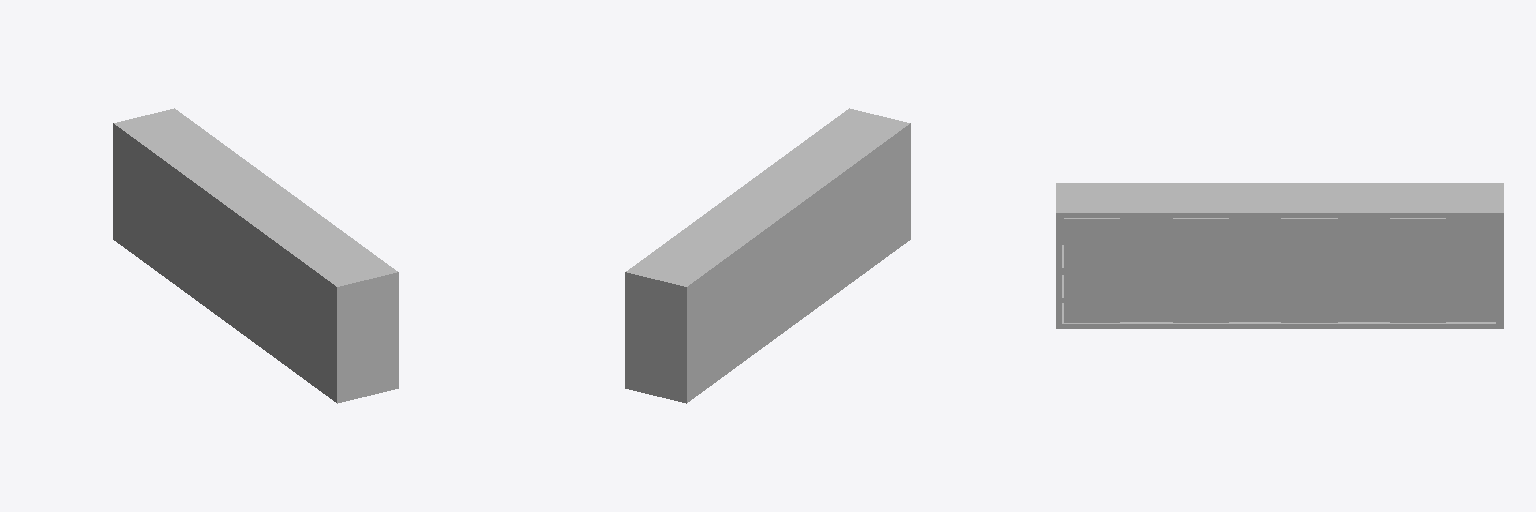
The model's file is fridge.obj.
3 views of the same model, side by side, from view 1: azimuth 30°, elevation 25°; view 2: azimuth 150°, elevation 25°; view 3: azimuth 270°, elevation 25° (orthographic).
Parts seen in each view (by area): view 1: pCube57; view 2: pCube57; view 3: pCube57, pCube63, pCube61, pCube59, pCube65, pCube60, pCube58, pCube64, pCube62.
Part boxes in pixels (bbox=[...]): pCube57: bbox=[113, 108, 398, 403]; pCube57: bbox=[625, 108, 910, 403]; pCube57: bbox=[1056, 183, 1503, 328]; pCube63: bbox=[1281, 218, 1337, 322]; pCube61: bbox=[1173, 218, 1228, 322]; pCube59: bbox=[1064, 218, 1119, 322]; pCube65: bbox=[1390, 218, 1445, 322]; pCube60: bbox=[1229, 218, 1278, 321]; pCube58: bbox=[1120, 218, 1169, 321]; pCube64: bbox=[1446, 218, 1495, 321]; pCube62: bbox=[1338, 218, 1386, 321].
Bounding box in the file's own units: 80.49 × 146 × 509.